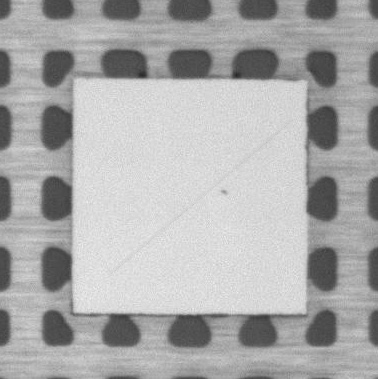DIE_CRACK: (111, 120, 292, 273)
